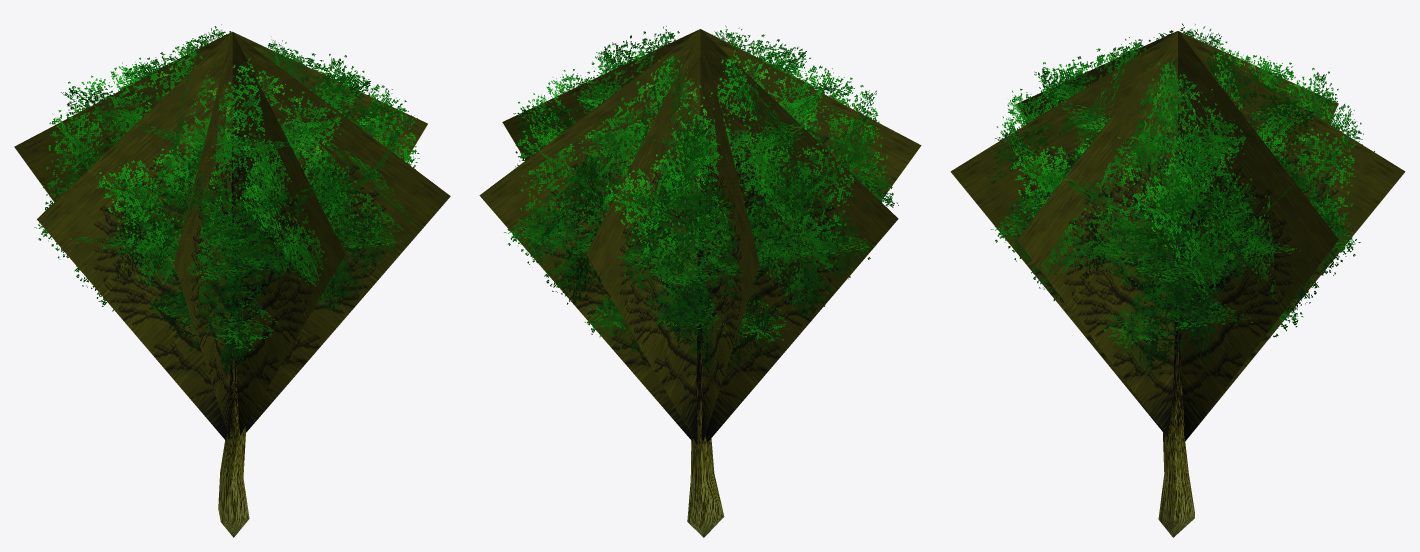
File: haagbeuk_3.fbx
3 views of the same model, side by side, from view 1: azimuth 30°, elevation 25°; view 2: azimuth 150°, elevation 25°; view 3: azimuth 270°, elevation 25° (orthographic).
Parts seen in each view (by area): view 1: haagbeuk_3; view 2: haagbeuk_3; view 3: haagbeuk_3.
Boxes of the visible parts, x1,y1,x2,y2 form: haagbeuk_3: (14,24,450,537); haagbeuk_3: (479,25,921,537); haagbeuk_3: (950,23,1405,537).
Bounding box in the file's own units: 1713 × 2103 × 1699.
